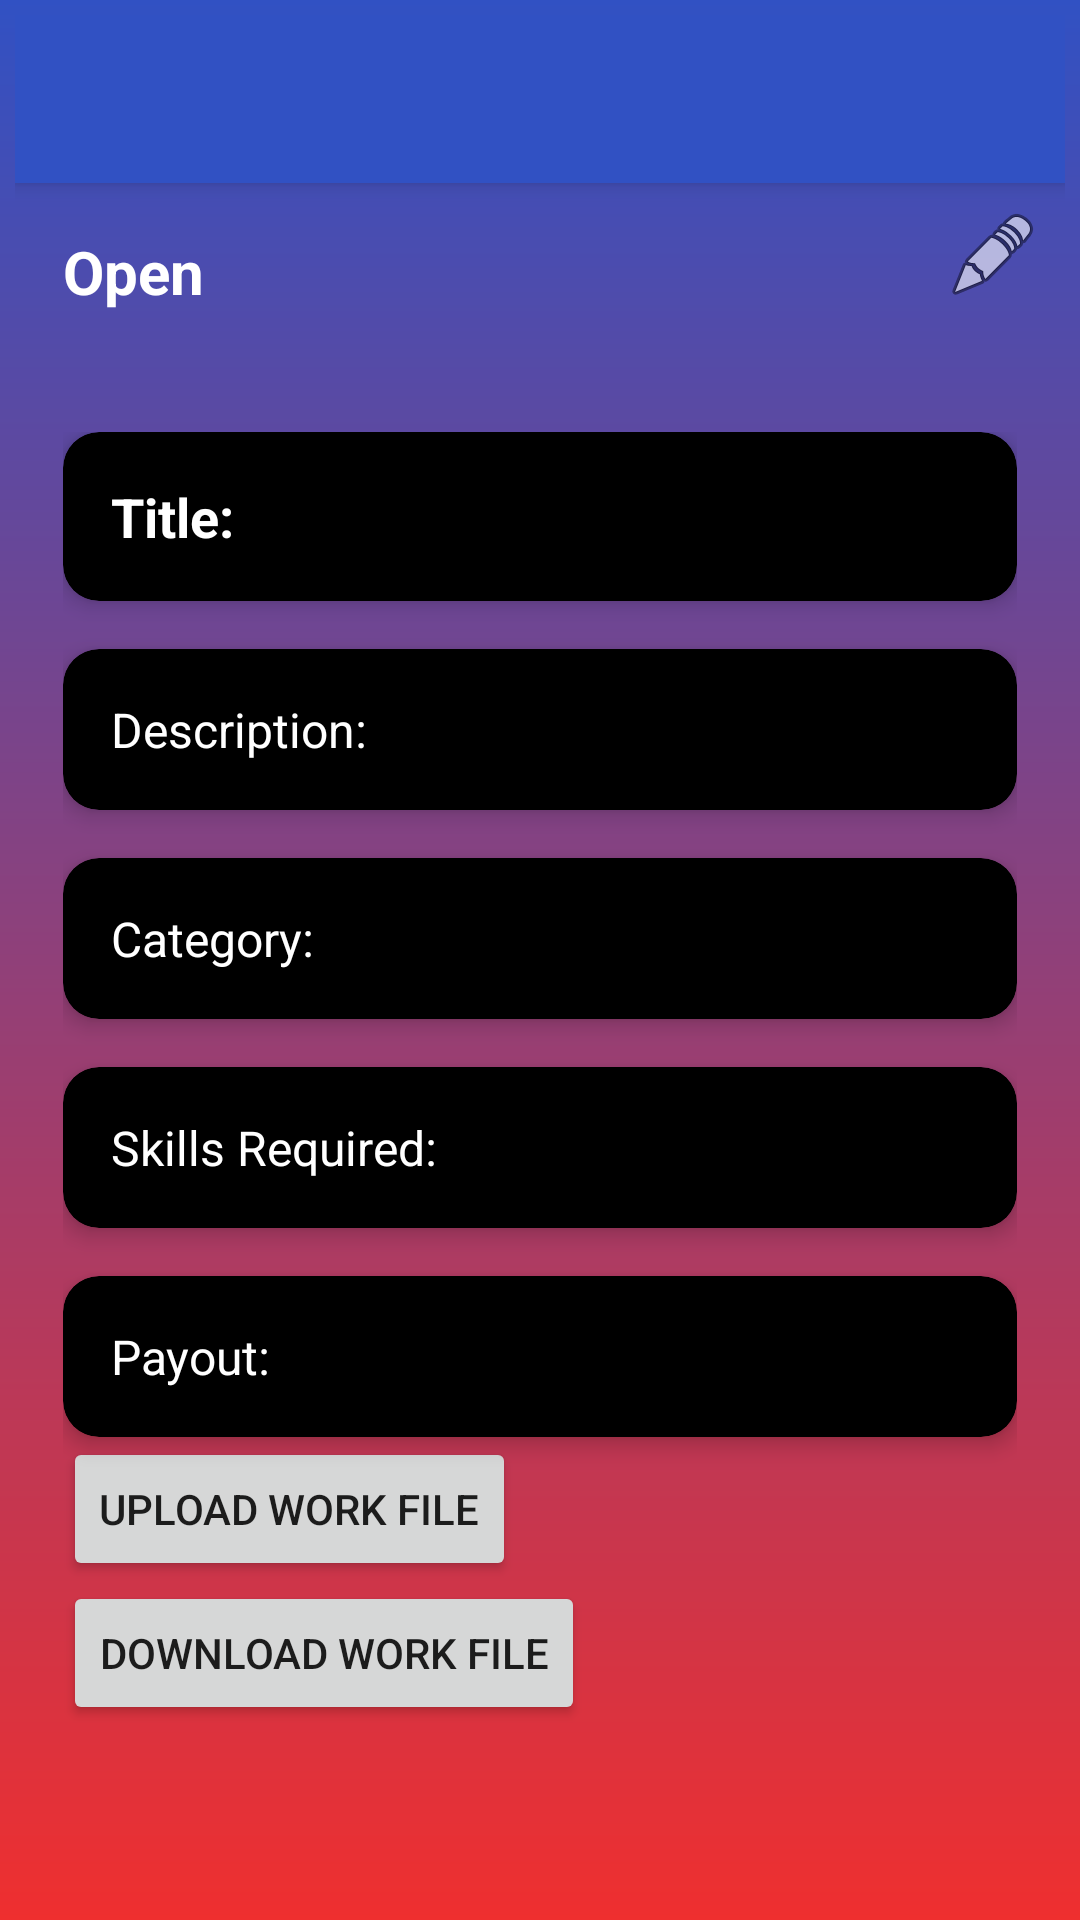

Point at icon controls on the screen. Image size 1080x1920, points as [x,y].
Edit: [992,254]
